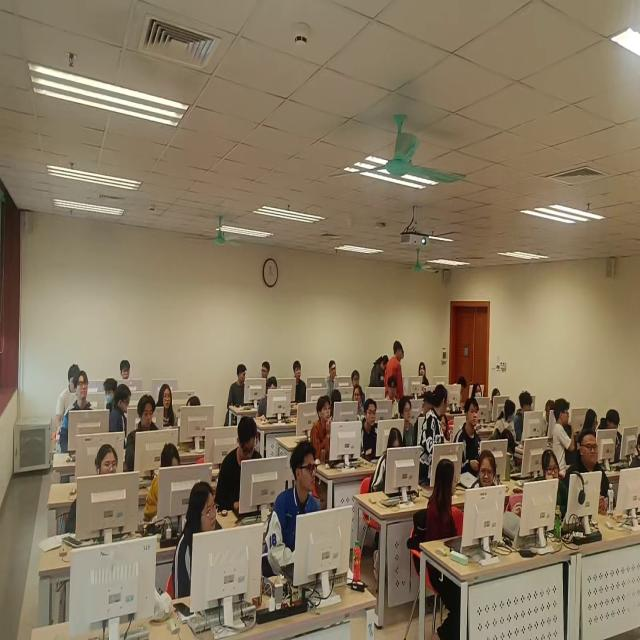raise_head: (274, 445, 350, 586), (181, 487, 252, 620), (580, 437, 626, 519), (456, 393, 489, 479), (71, 372, 103, 448), (313, 396, 346, 460), (362, 401, 391, 457), (288, 357, 314, 408), (117, 353, 143, 399), (160, 381, 182, 433), (326, 353, 347, 401), (417, 362, 434, 399)
stand: (419, 385, 453, 491), (385, 341, 410, 411)
using_computer: (86, 449, 138, 546), (232, 418, 283, 514), (155, 453, 210, 521), (540, 448, 579, 541), (135, 396, 178, 467), (380, 428, 421, 500), (261, 381, 292, 431)
